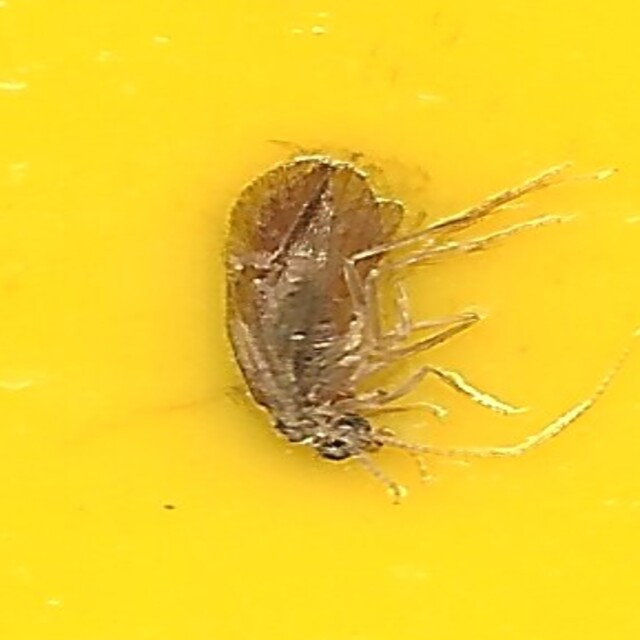Trichoptera: (221, 156, 419, 484)
